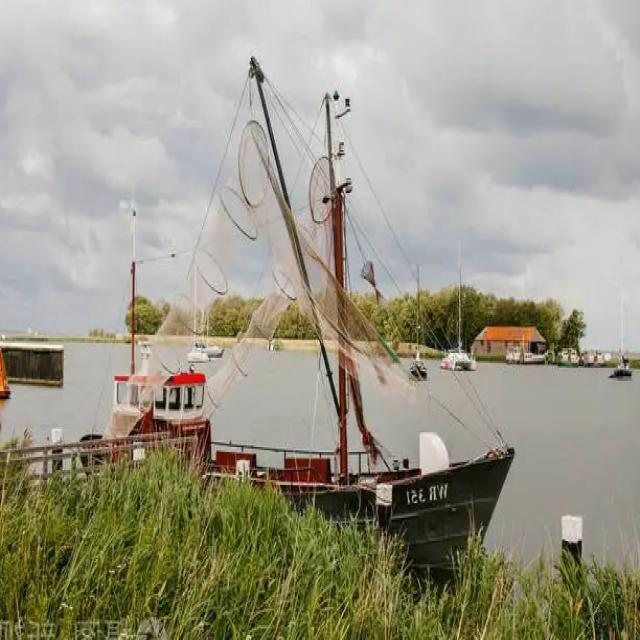fishing boat: (75, 60, 505, 553), (441, 252, 478, 372), (185, 264, 227, 368), (612, 276, 636, 382), (410, 263, 431, 379)
